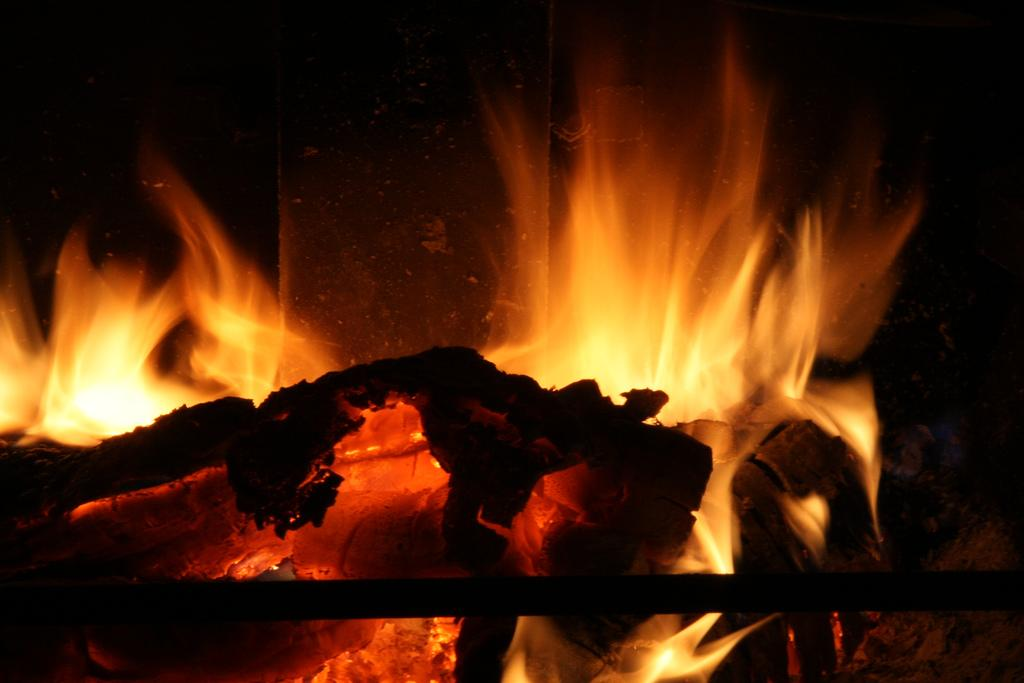fire: (543, 182, 780, 413), (57, 285, 155, 428)
